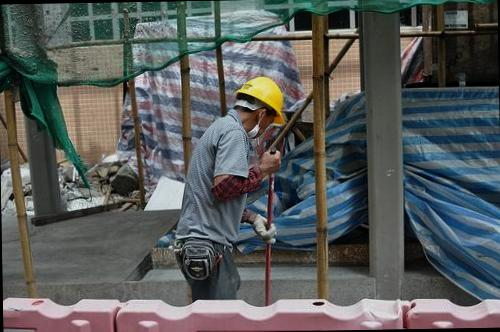helmet: (234, 76, 286, 124)
person: (174, 71, 288, 316)
